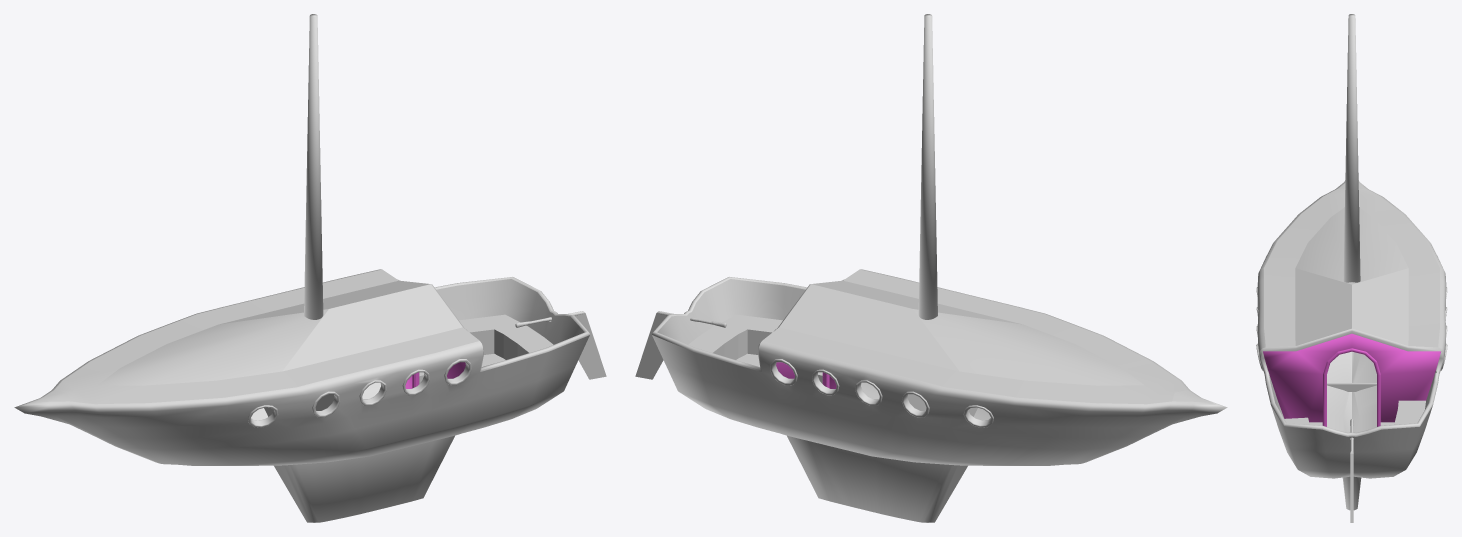
The model's file is boat.fbx.
3 renders of one model, left to right at view 1: azimuth 30°, elevation 25°; view 2: azimuth 150°, elevation 25°; view 3: azimuth 270°, elevation 25°, orthographic. The views are drawn at different scales.
Visible parts, largest first — view 1: outerhull, roof, topdeck, Keel, innerhull, Mast, bench, trim, rudder; view 2: outerhull, roof, topdeck, Keel, innerhull, Mast, bench, trim, rudder; view 3: roof, topdeck, interior wall 1.002, outerhull, innerhull, Mast, trim, bench, doorframe, Keel, rudder, interior wall 1.003.
Part boxes in pixels (left/top/right/bottom): outerhull: left=14, top=269, right=589, bottom=465; roof: left=35, top=280, right=462, bottom=402; topdeck: left=54, top=269, right=479, bottom=404; Keel: left=274, top=435, right=454, bottom=522; innerhull: left=251, top=279, right=584, bottom=420; Mast: left=304, top=14, right=323, bottom=319; bench: left=459, top=314, right=553, bottom=359; trim: left=398, top=277, right=589, bottom=371; rudder: left=515, top=311, right=606, bottom=379; outerhull: left=652, top=269, right=1227, bottom=465; roof: left=779, top=280, right=1206, bottom=402; topdeck: left=762, top=269, right=1187, bottom=404; Keel: left=787, top=435, right=967, bottom=522; innerhull: left=657, top=279, right=990, bottom=420; Mast: left=918, top=14, right=937, bottom=319; bench: left=688, top=314, right=782, bottom=359; trim: left=652, top=277, right=843, bottom=371; rudder: left=635, top=311, right=726, bottom=379; roof: left=1295, top=183, right=1408, bottom=345; topdeck: left=1263, top=188, right=1440, bottom=347; interior wall 1.002: left=1263, top=333, right=1440, bottom=422; outerhull: left=1257, top=180, right=1446, bottom=478; innerhull: left=1269, top=351, right=1436, bottom=439; Mast: left=1343, top=14, right=1360, bottom=282; trim: left=1259, top=328, right=1444, bottom=436; bench: left=1284, top=400, right=1425, bottom=424; doorframe: left=1322, top=348, right=1381, bottom=426; Keel: left=1342, top=476, right=1361, bottom=510; rudder: left=1350, top=419, right=1353, bottom=522; interior wall 1.003: left=1327, top=383, right=1376, bottom=391.
Bounding box in the file's own units: 1833 × 1503 × 580.
